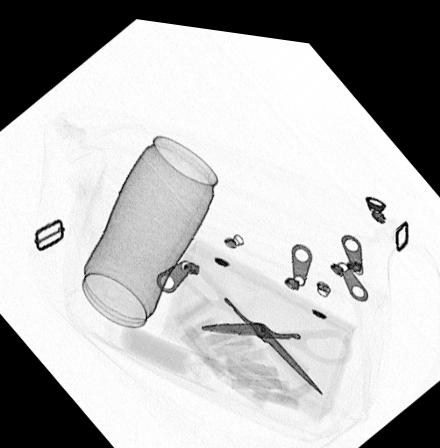Scissors: (163, 245, 353, 388)
